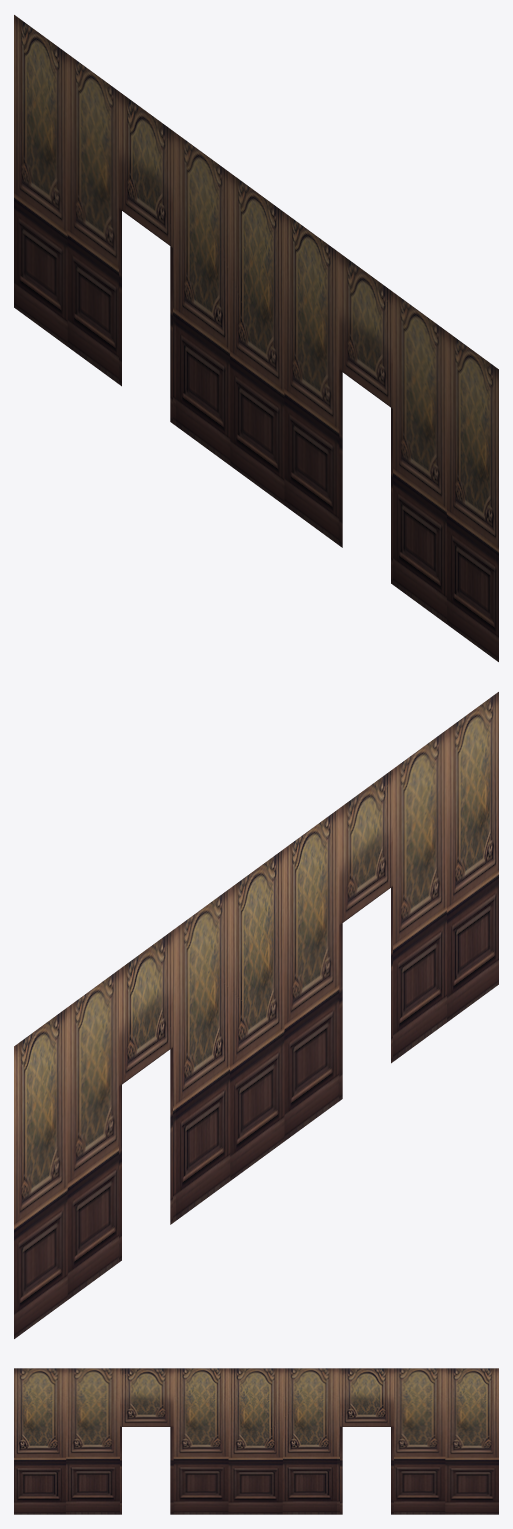
Rendered from wall_hall_hole.glb.
3 renders of one model, top to bottom at view 1: azimuth 30°, elevation 25°; view 2: azimuth 150°, elevation 25°; view 3: azimuth 270°, elevation 25°, orthographic. The views are drawn at different scales.
Parts seen in each view (by area): view 1: Piano, Piano.001, Piano.002; view 2: Piano, Piano.001, Piano.002; view 3: Piano, Piano.001, Piano.002.
Boxes of the visible parts, x1,y1,x2,y2 form: Piano: (14,15,498,661); Piano.001: (119,91,172,423); Piano.002: (339,253,392,584); Piano: (14,692,498,1338); Piano.001: (119,930,172,1262); Piano.002: (339,769,392,1100); Piano: (14,1368,498,1514); Piano.001: (340,1368,393,1514); Piano.002: (120,1368,173,1514).
Size of the model in its own units: 1.11e-15 by 5 by 15.
Materials: 3 (3 with a texture image).
